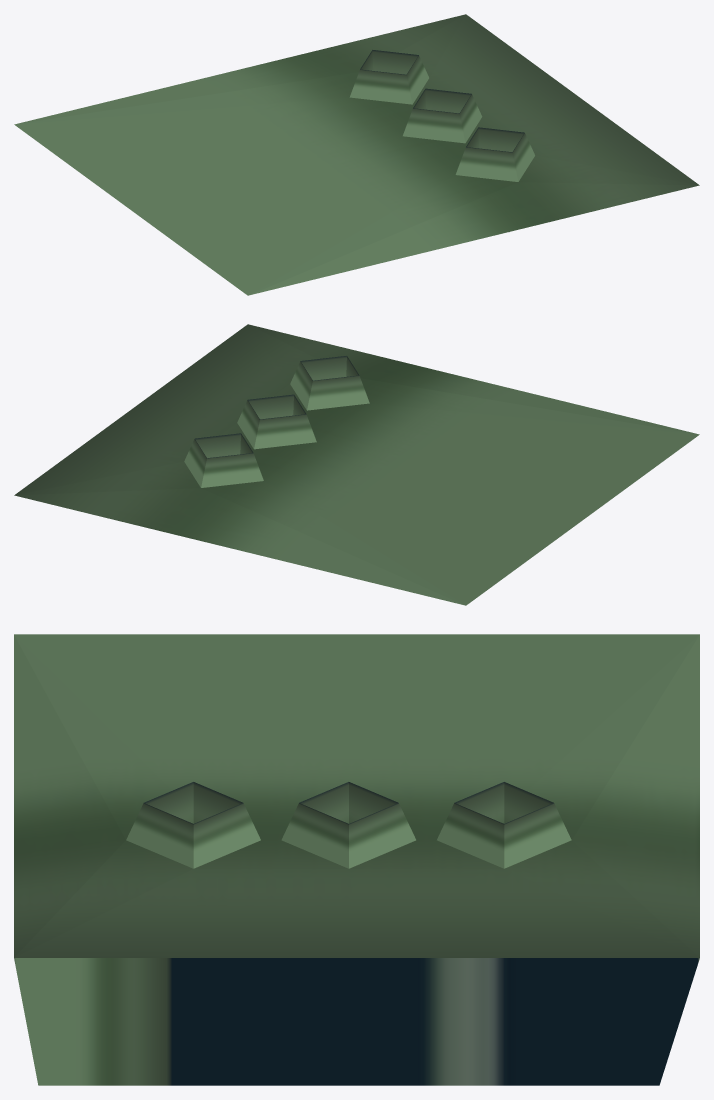
3 renders of one model, top to bottom at view 1: azimuth 30°, elevation 25°; view 2: azimuth 150°, elevation 25°; view 3: azimuth 270°, elevation 25°, orthographic. The views are drawn at different scales.
Parts seen in each view (by area): view 1: Box03; view 2: Box03; view 3: Box03.
Boxes of the visible parts, left/top/right/bottom form: Box03: left=14, top=14, right=699, bottom=295; Box03: left=14, top=324, right=699, bottom=605; Box03: left=14, top=634, right=699, bottom=1085.
Bounding box in the file's own units: 675 × 175 × 604.
1 material, 1 textured.
